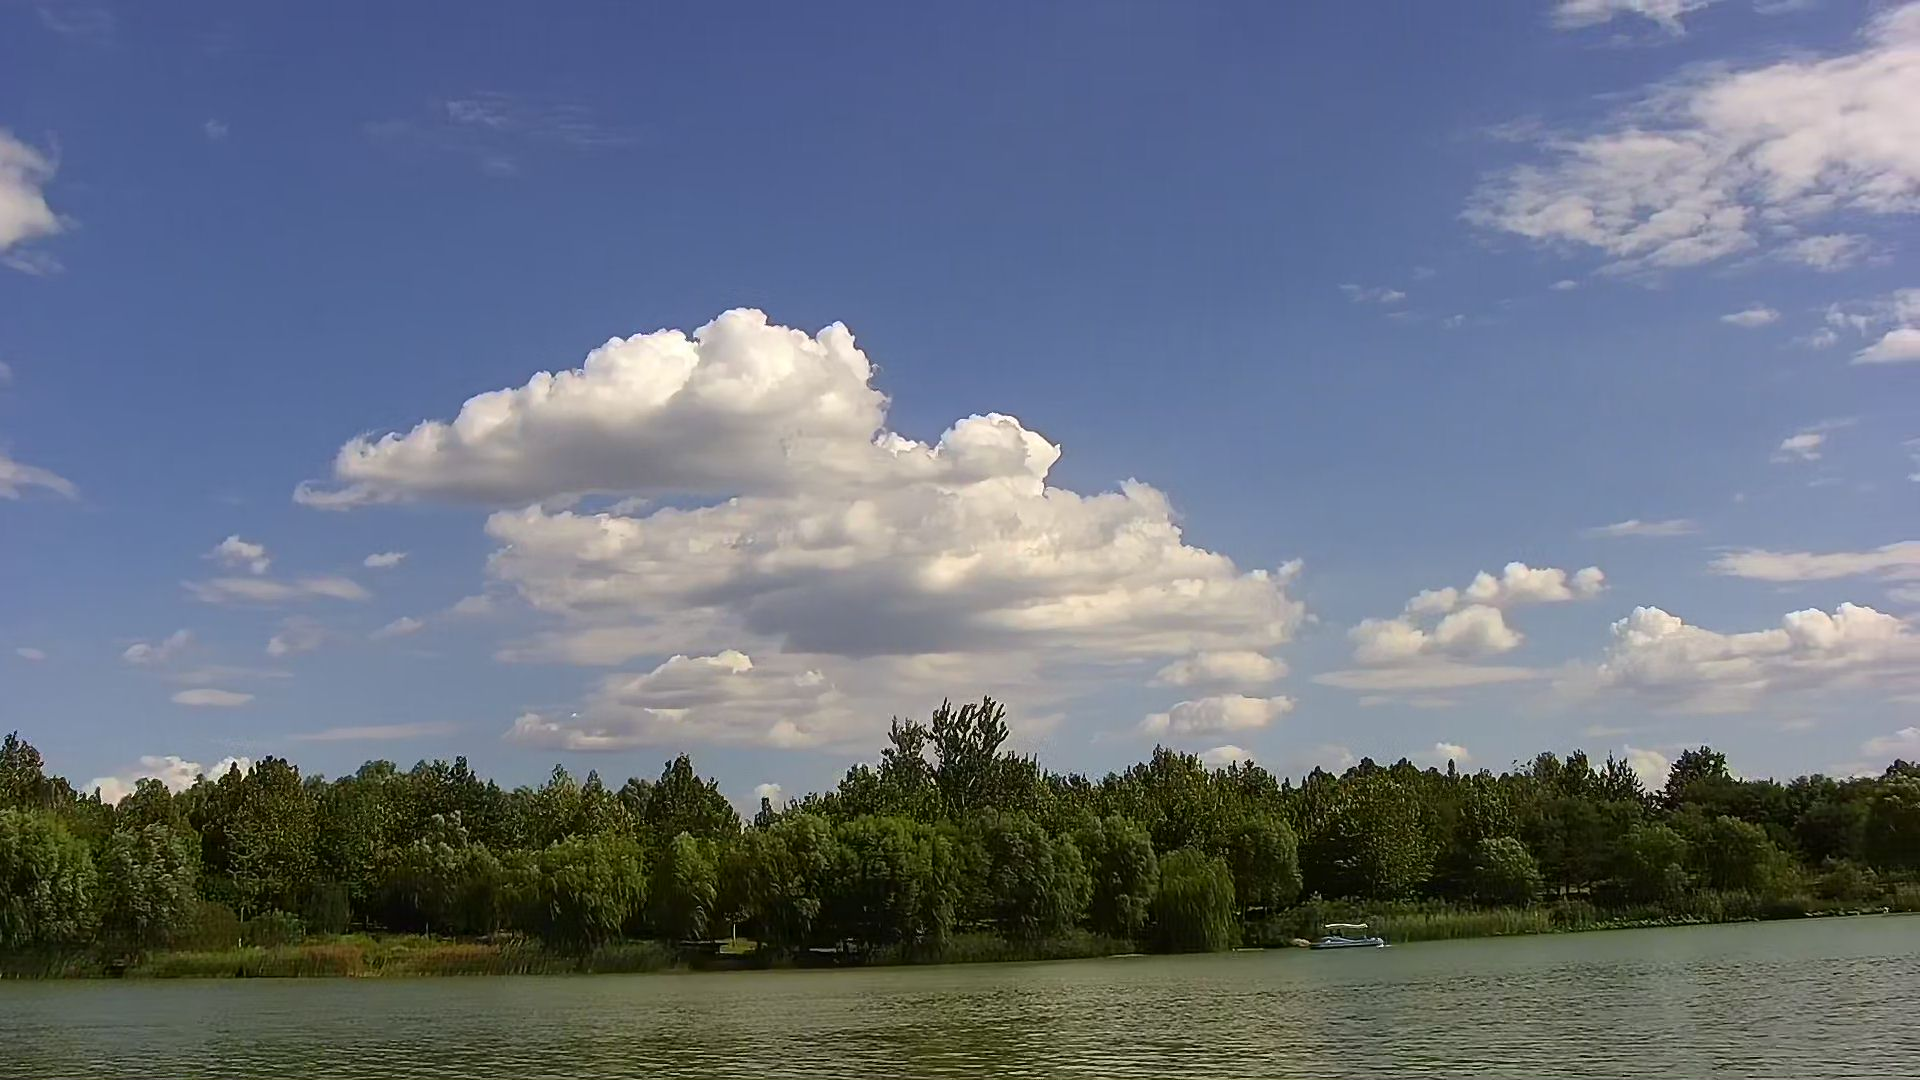boat: (1304, 915, 1393, 956)
